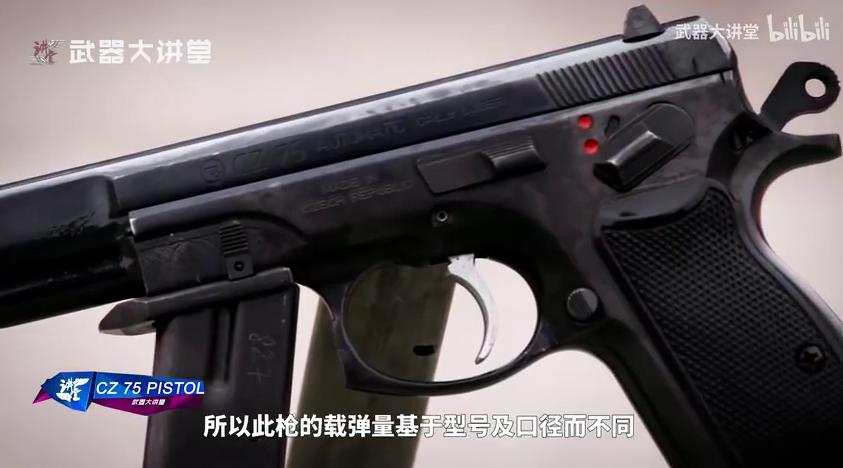gun: (1, 1, 843, 468)
